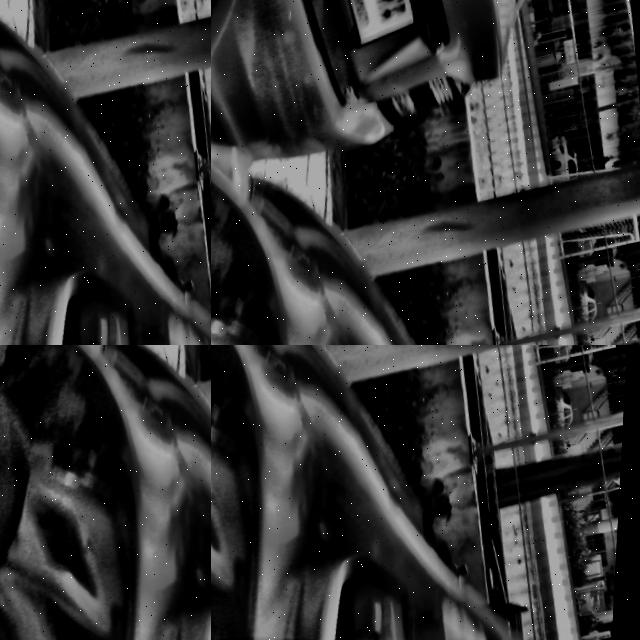license-plate: (320, 0, 432, 52)
